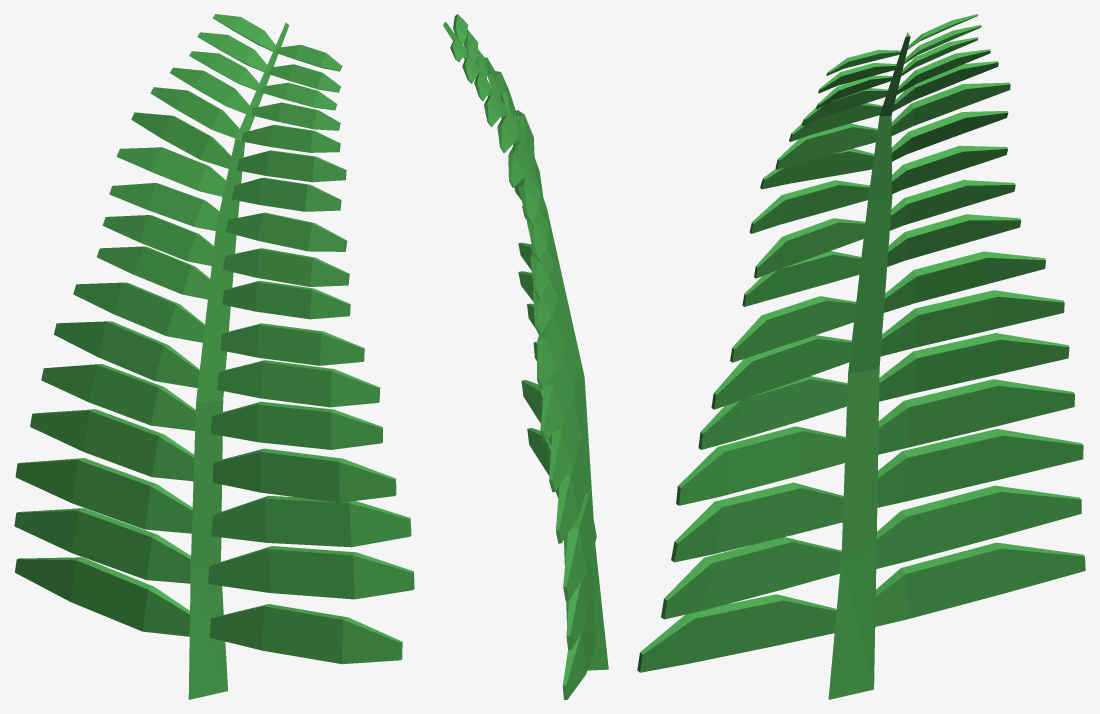
File: plant_fern.glb
The picture shows the model from 3 angles, left to right: view 1: azimuth 30°, elevation 25°; view 2: azimuth 150°, elevation 25°; view 3: azimuth 270°, elevation 25°; orthographic projection. The views are drawn at different scales.
Visible parts, largest first — view 1: Node; view 2: Node; view 3: Node.
Part boxes in pixels (bbox=[...]): Node: bbox=[14, 14, 414, 699]; Node: bbox=[443, 14, 608, 699]; Node: bbox=[637, 14, 1085, 699].
Bounding box in the file's own units: 1.4 × 3.74 × 2.1.
